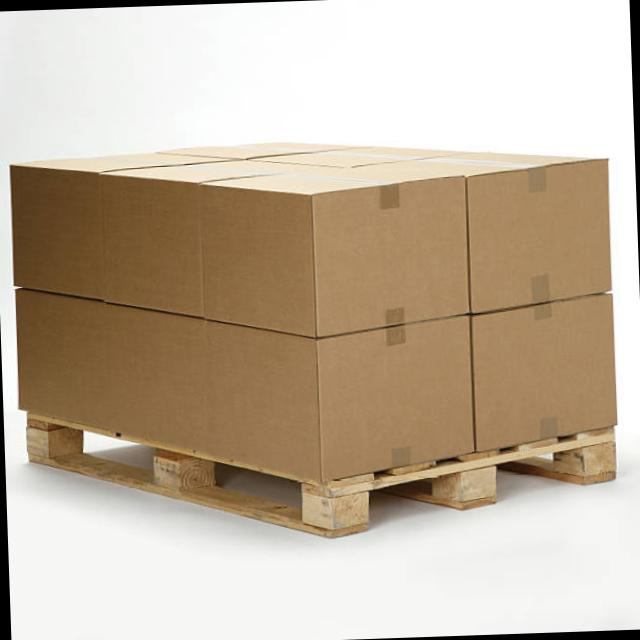Wooden-Pallets: (18, 399, 627, 548)
